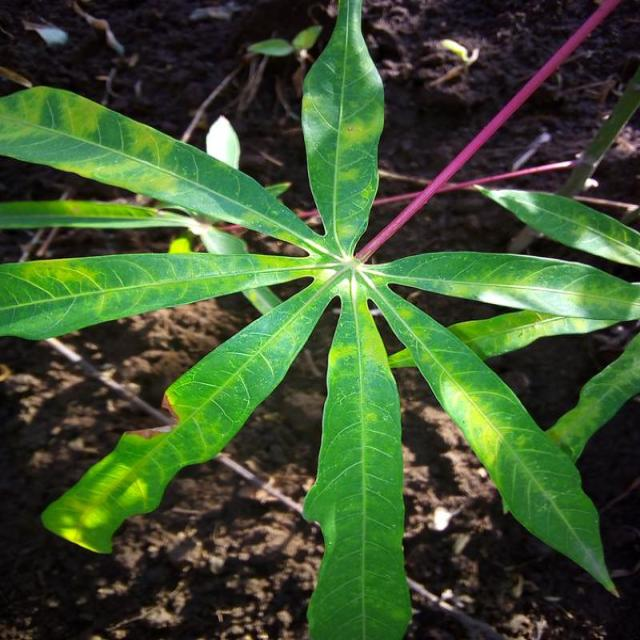cassava leaf: (0, 0, 638, 637), (302, 274, 412, 638), (299, 0, 385, 257)
